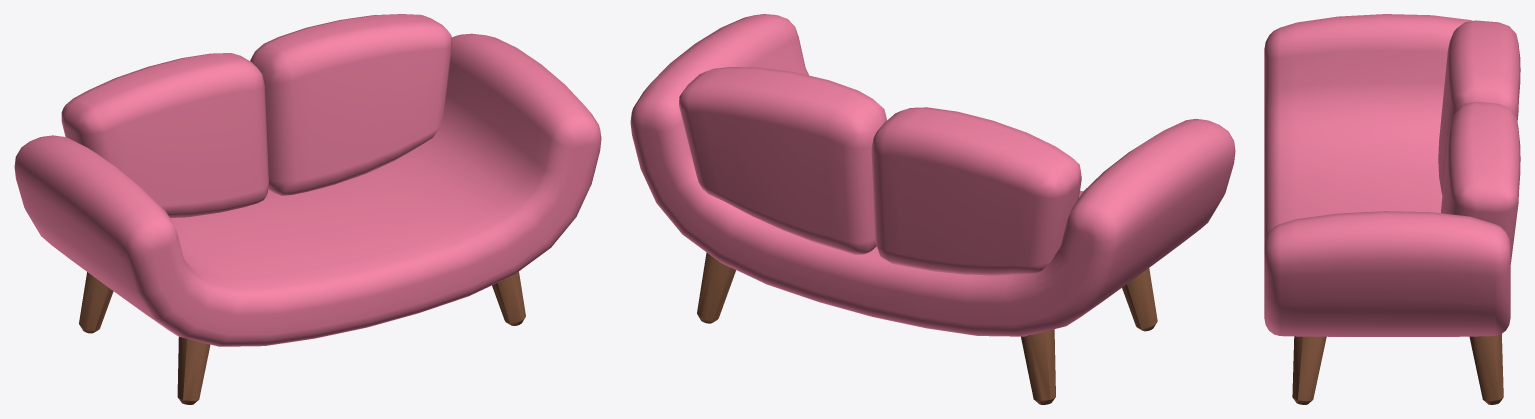
File: sofa_curvo_rosa_pacote.glb
The picture shows the model from 3 angles, left to right: view 1: azimuth 30°, elevation 25°; view 2: azimuth 150°, elevation 25°; view 3: azimuth 270°, elevation 25°; orthographic projection. The views are drawn at different scales.
Parts seen in each view (by area): view 1: sofa_curvo_rosa_pacote; view 2: sofa_curvo_rosa_pacote; view 3: sofa_curvo_rosa_pacote.
Part boxes in pixels (box(x1,y1,x2,y2)): sofa_curvo_rosa_pacote: box(14, 14, 601, 404); sofa_curvo_rosa_pacote: box(630, 14, 1235, 404); sofa_curvo_rosa_pacote: box(1264, 14, 1520, 404).
Size of the model in its own units: 1.56 by 0.7706 by 0.7455.
1 material, 1 textured.
